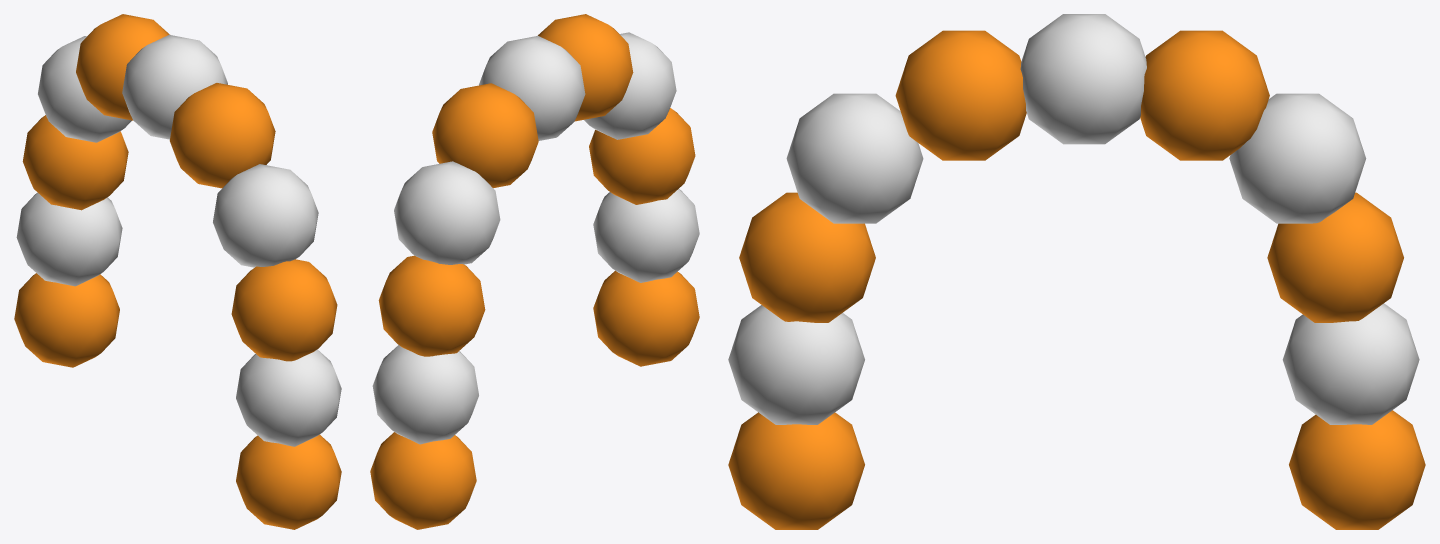
3 views of the same model, side by side, from view 1: azimuth 30°, elevation 25°; view 2: azimuth 150°, elevation 25°; view 3: azimuth 270°, elevation 25° (orthographic). The views are drawn at different scales.
Parts seen in each view (by area): view 1: Icosphere.017; view 2: Icosphere.017; view 3: Icosphere.017.
Part boxes in pixels (x1=…): Icosphere.017: x1=14, y1=14, x2=341, y2=529; Icosphere.017: x1=370, y1=14, x2=699, y2=529; Icosphere.017: x1=728, y1=14, x2=1425, y2=529.
Bounding box in the file's own units: 2.45 × 10.6 × 13.14.
